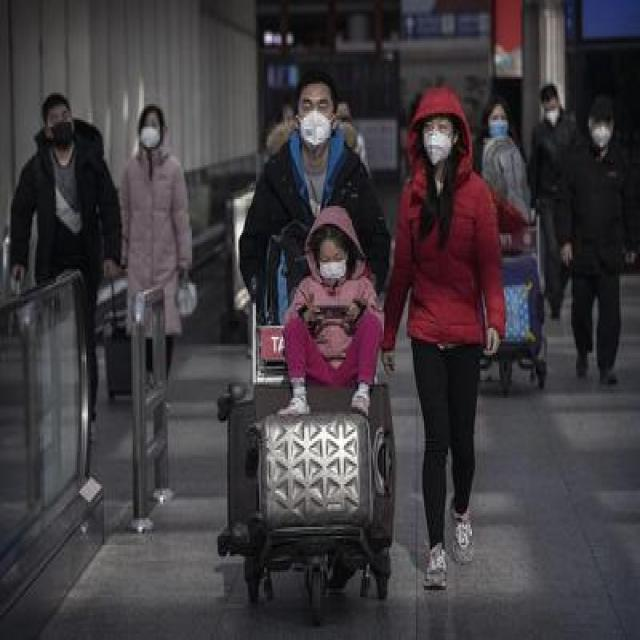with_mask: (297, 96, 332, 150), (422, 116, 452, 166), (47, 107, 73, 148), (318, 248, 347, 282), (139, 117, 161, 151), (487, 112, 510, 139), (590, 119, 612, 146), (543, 101, 561, 126)
